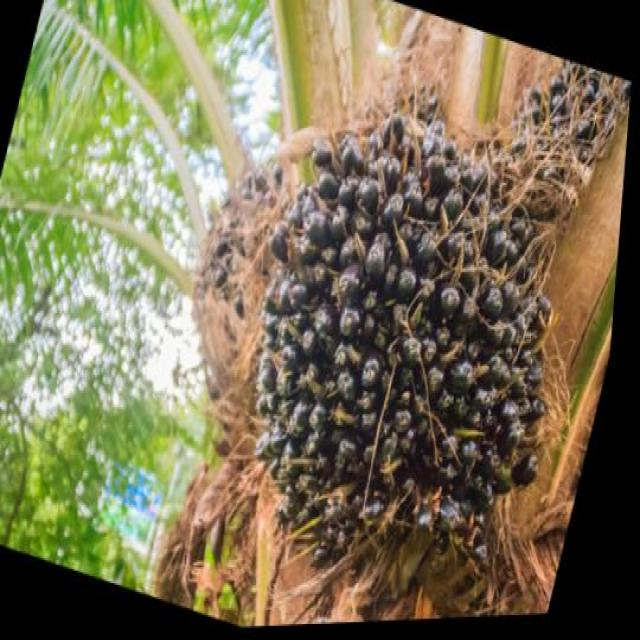Unripe: (197, 61, 622, 632)
